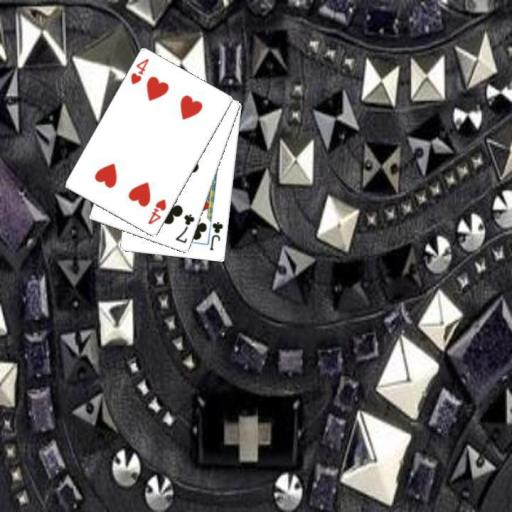4H: (144, 196, 168, 226), (127, 56, 151, 86)
7C: (172, 211, 196, 245)
JC: (207, 219, 225, 252)
